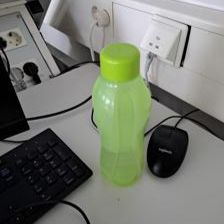bottle: (94, 40, 152, 185)
